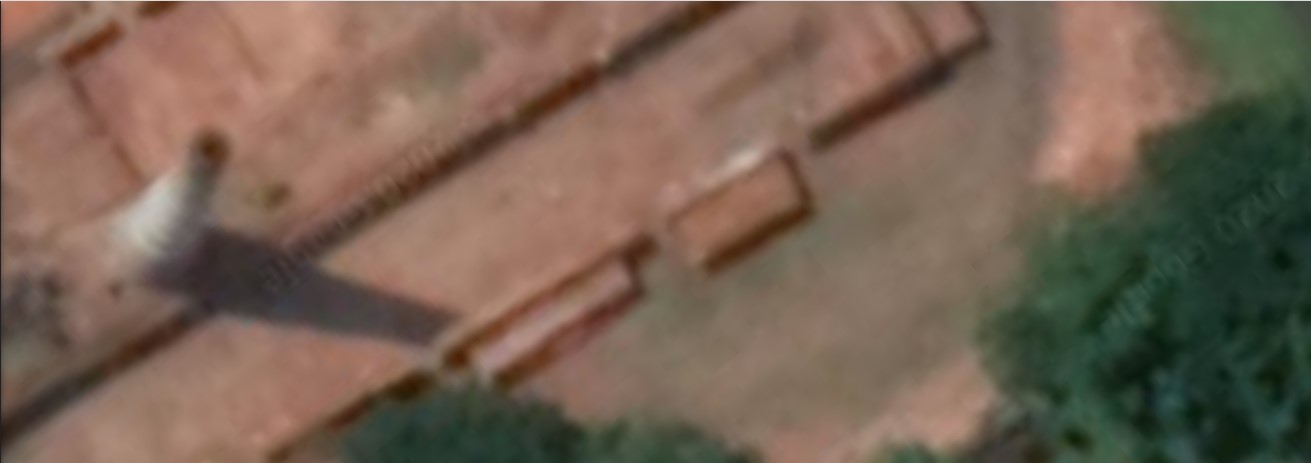kiln: (17, 16, 588, 383)
